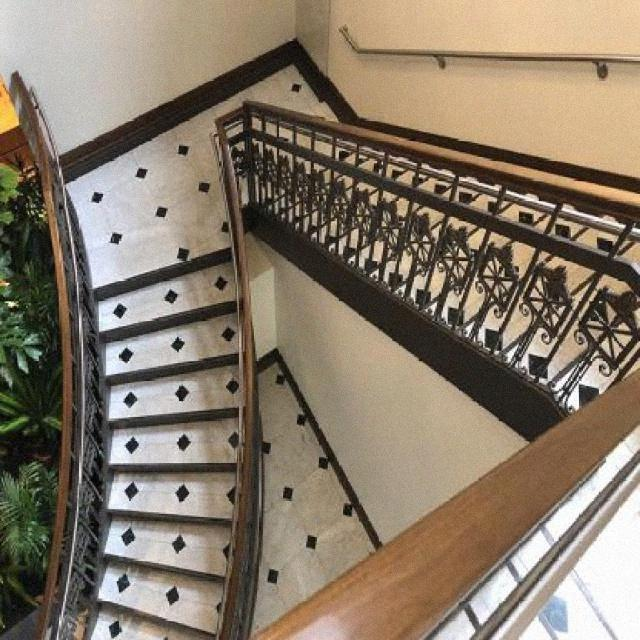stair: (27, 153, 278, 639)
